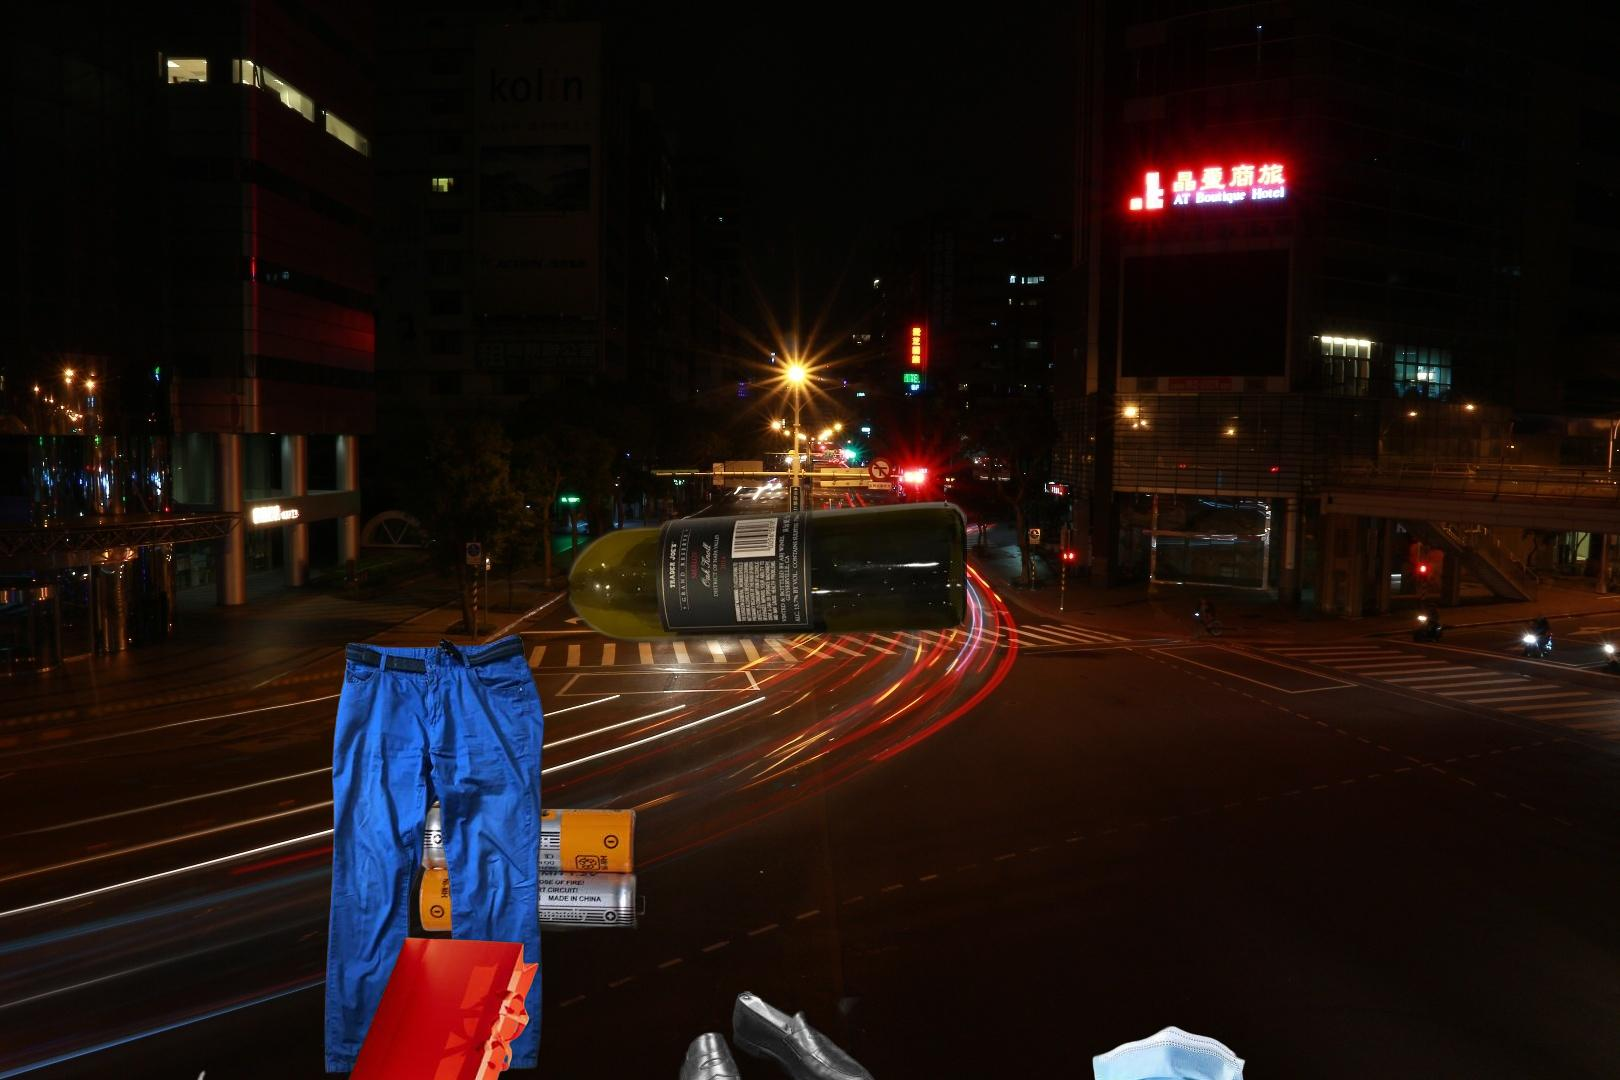battery: (409, 804, 650, 957), (101, 1066, 272, 1080)
clothes: (321, 630, 548, 1079)
glass: (454, 499, 967, 661)
paper-bag: (341, 934, 542, 1080)
penholder: (330, 997, 931, 1080)
shoes: (667, 986, 881, 1080)
trash: (1085, 1023, 1254, 1080)
